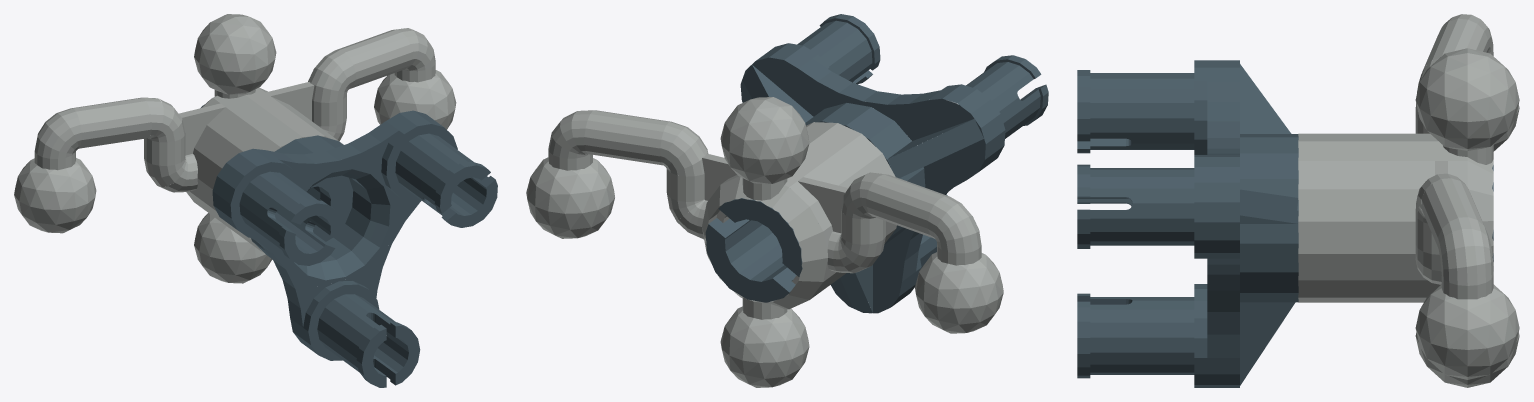
3 renders of one model, left to right at view 1: azimuth 30°, elevation 25°; view 2: azimuth 150°, elevation 25°; view 3: azimuth 270°, elevation 25°, orthographic. The views are drawn at different scales.
Visible parts, largest first — view 1: world; view 2: world; view 3: world.
Part boxes in pixels (x1,y1,x2,y2): world: (14, 14, 497, 387); world: (526, 14, 1048, 387); world: (1077, 14, 1519, 387).
Size of the model in its own units: 0.0384 by 0.0224 by 0.0272.
